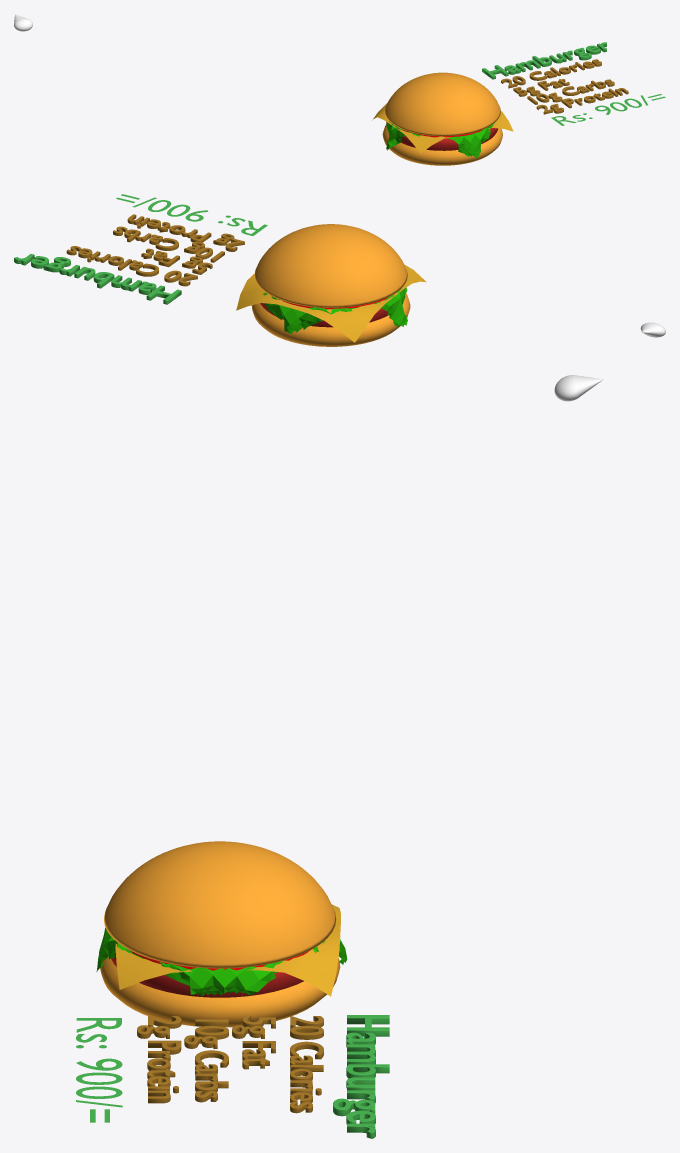
Rendered from hamburger.glb.
3 renders of one model, top to bottom at view 1: azimuth 30°, elevation 25°; view 2: azimuth 150°, elevation 25°; view 3: azimuth 270°, elevation 25°, orthographic. The views are drawn at different scales.
Parts seen in each view (by area): view 1: Sphere, Text, Plane, Text.001, Plane.002, Plane.001, Text.002, Torus.005, Sphere.002; view 2: Sphere, Text, Plane, Plane.001, Text.001, Plane.002, Text.002, Sphere.002, Torus.005; view 3: Sphere, Text, Plane, Text.001, Plane.001, Plane.002, Text.002, Torus.005.
Part boxes in pixels (x1,y1,x2,y2): Sphere: (384,72,500,136); Text: (501,59,628,114); Plane: (382,124,502,165); Text.001: (482,42,606,79); Plane.002: (386,121,494,158); Plane.001: (373,103,513,153); Text.002: (551,94,665,125); Torus.005: (386,122,497,150); Sphere.002: (14,14,32,31); Sphere: (254,224,407,307); Text: (66,214,244,286); Plane: (251,293,410,346); Plane.001: (236,264,426,342); Text.001: (14,254,181,304); Plane.002: (263,287,407,333); Text.002: (116,194,267,235); Sphere.002: (640,322,665,337); Torus.005: (260,303,388,327); Sphere: (104,841,336,968); Text: (137,1016,323,1113); Plane: (100,957,340,1027); Text.001: (333,1015,389,1138); Plane.001: (115,904,340,996); Plane.002: (96,927,347,996); Text.002: (76,1018,122,1122); Torus.005: (111,953,303,997).
Size of the model in its own units: 10.82 by 2.72 by 4.56.
